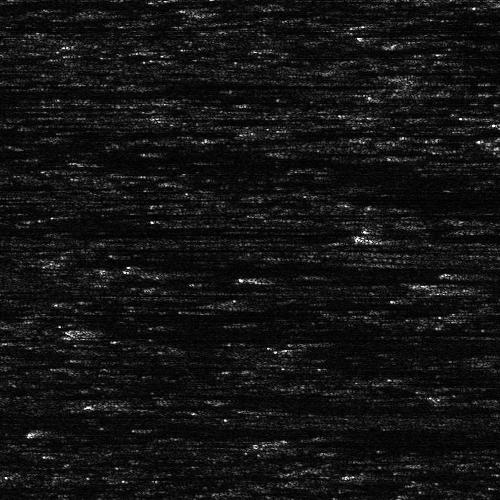rock: (81, 258, 300, 277), (25, 398, 192, 411), (235, 432, 318, 449), (165, 299, 280, 310), (100, 80, 205, 89), (55, 326, 108, 339), (209, 273, 302, 280), (0, 352, 10, 359)
shadow: (191, 258, 453, 277), (109, 398, 452, 411), (277, 432, 455, 449), (0, 85, 216, 96), (0, 221, 209, 232), (82, 326, 250, 339), (223, 299, 397, 310), (0, 0, 229, 7), (153, 80, 312, 89), (256, 273, 433, 280), (0, 352, 62, 359), (0, 104, 83, 109)
